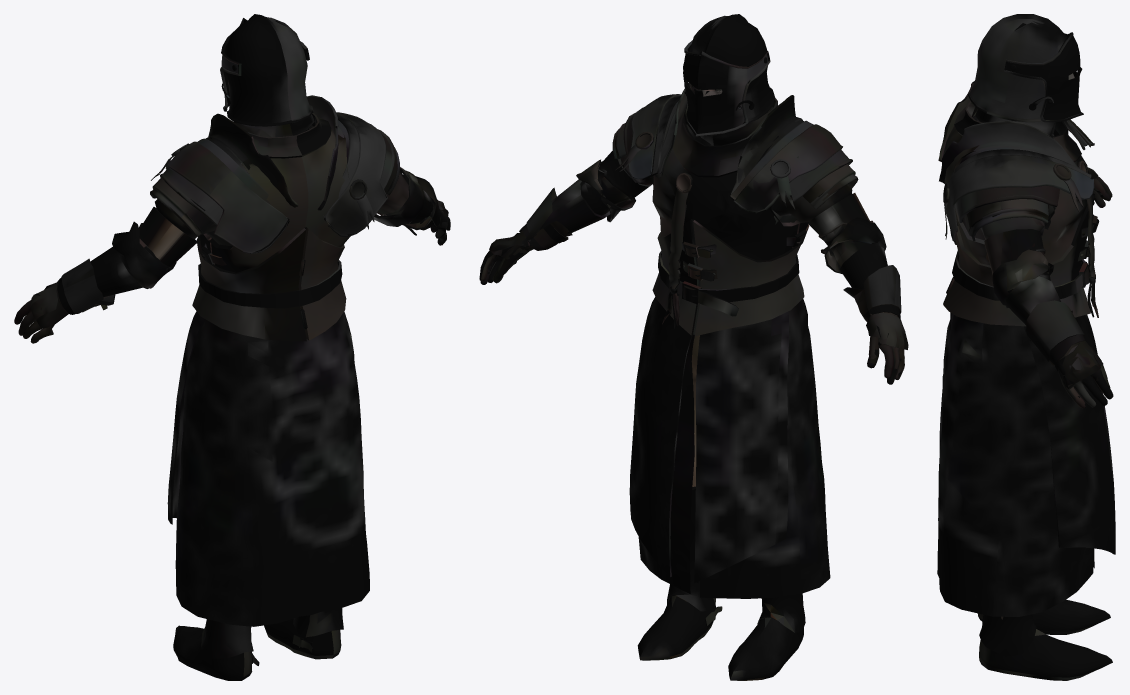
The picture shows the model from 3 angles, left to right: view 1: azimuth 30°, elevation 25°; view 2: azimuth 150°, elevation 25°; view 3: azimuth 270°, elevation 25°; orthographic projection.
Visible parts, largest first — view 1: mesh_0; view 2: mesh_0; view 3: mesh_0.
Part boxes in pixels (x1=…): mesh_0: x1=14, y1=14, x2=450, y2=680; mesh_0: x1=479, y1=14, x2=908, y2=680; mesh_0: x1=937, y1=14, x2=1115, y2=680.
Bounding box in the file's own units: 51.77 × 75.36 × 19.13.
1 material, 1 textured.
